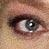eye: (25, 20, 38, 31)
